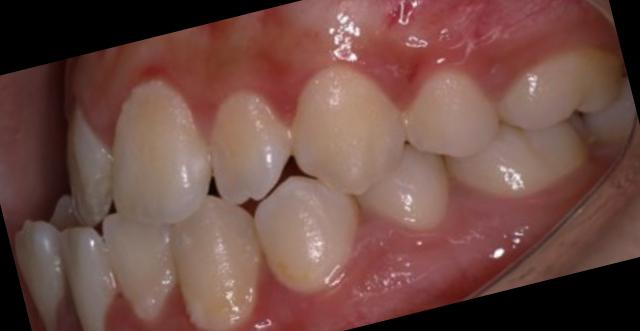canine class III full class: (131, 39, 467, 331)
molar class III 1/2: (427, 40, 640, 216)
